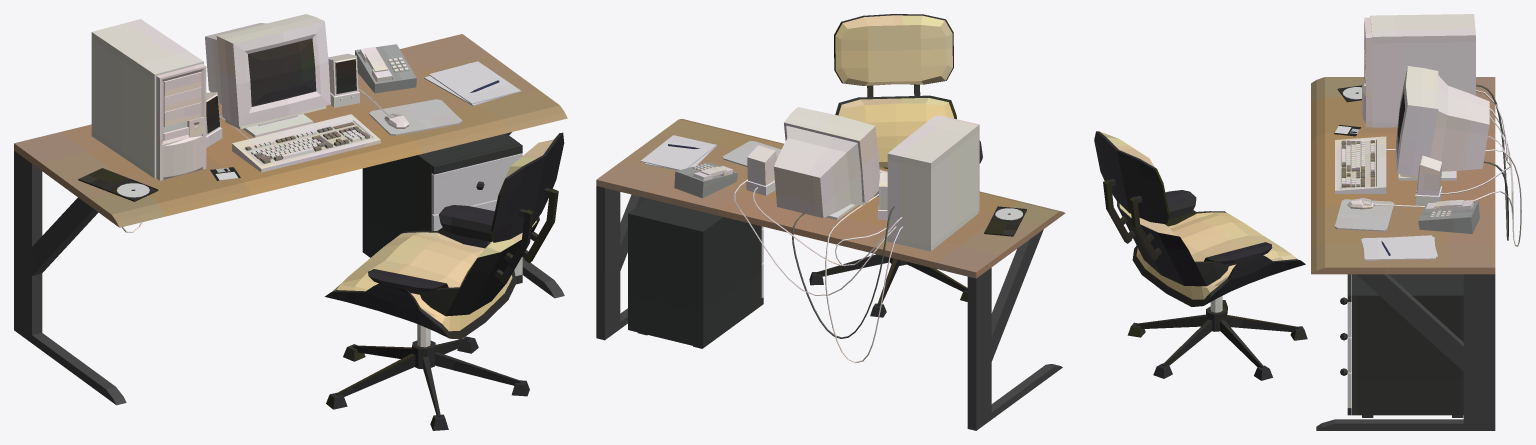
Rendered from computer-optimized-transformed.glb.
3 views of the same model, side by side, from view 1: azimuth 30°, elevation 25°; view 2: azimuth 150°, elevation 25°; view 3: azimuth 270°, elevation 25° (orthographic). The views are drawn at different scales.
Parts seen in each view (by area): view 1: Cube.000_ComputerDesk_0.001; view 2: Cube.000_ComputerDesk_0.001; view 3: Cube.000_ComputerDesk_0.001.
Part boxes in pixels (x1,y1,x2,y2): Cube.000_ComputerDesk_0.001: [14, 14, 567, 430]; Cube.000_ComputerDesk_0.001: [596, 14, 1065, 430]; Cube.000_ComputerDesk_0.001: [1094, 14, 1521, 430].
Bounding box in the file's own units: 188 × 116 × 178.
Materials: 2 (2 with a texture image).
